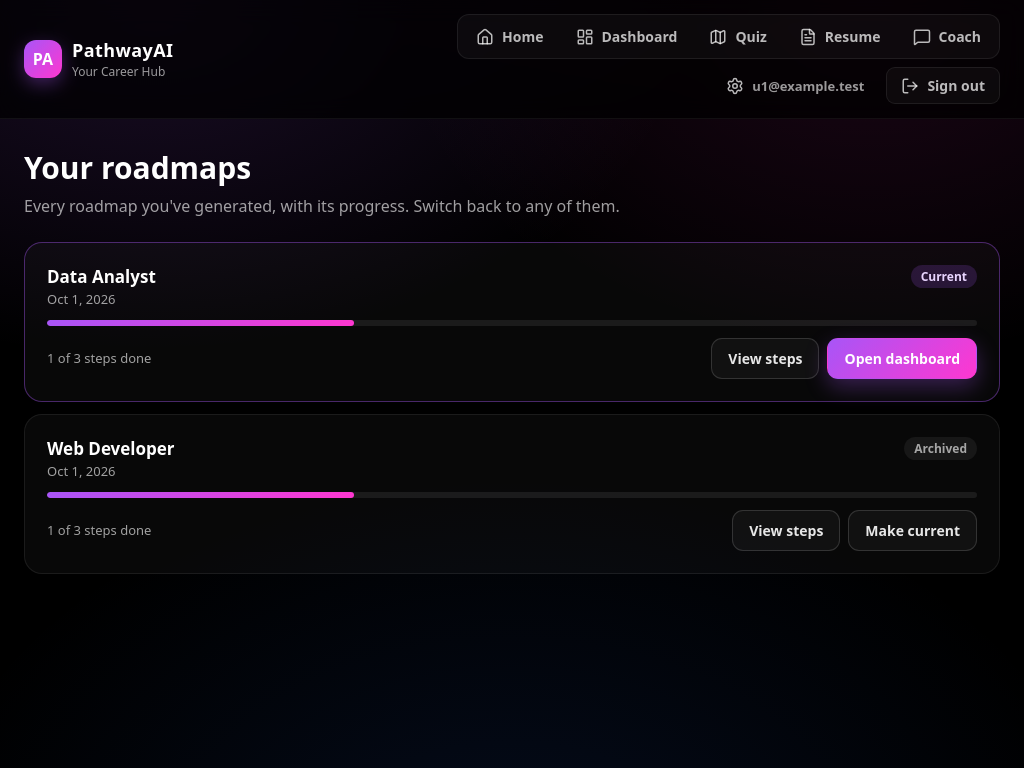
it: /roadmaps › explains a failed switch
The image size is (1024, 768).
Click the button "Make current". click: (913, 530)
box: [848,510,977,551]
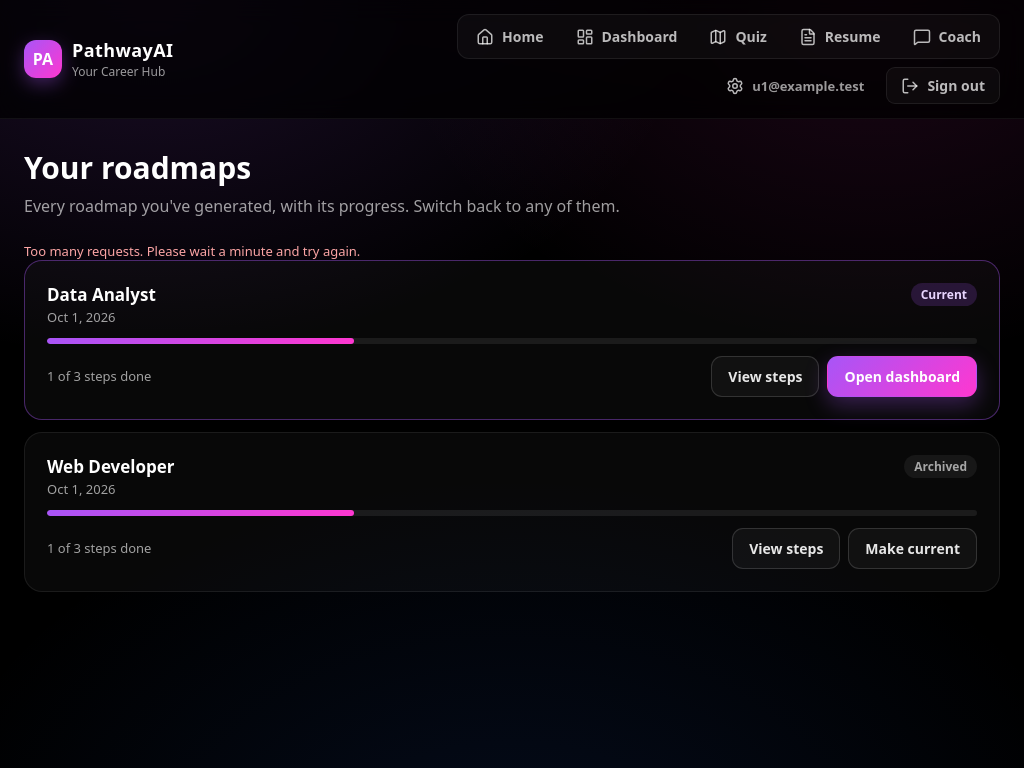
Check: the text "Too many requests. Please wait a minute and try again." is shown, box [24,242,360,260]
